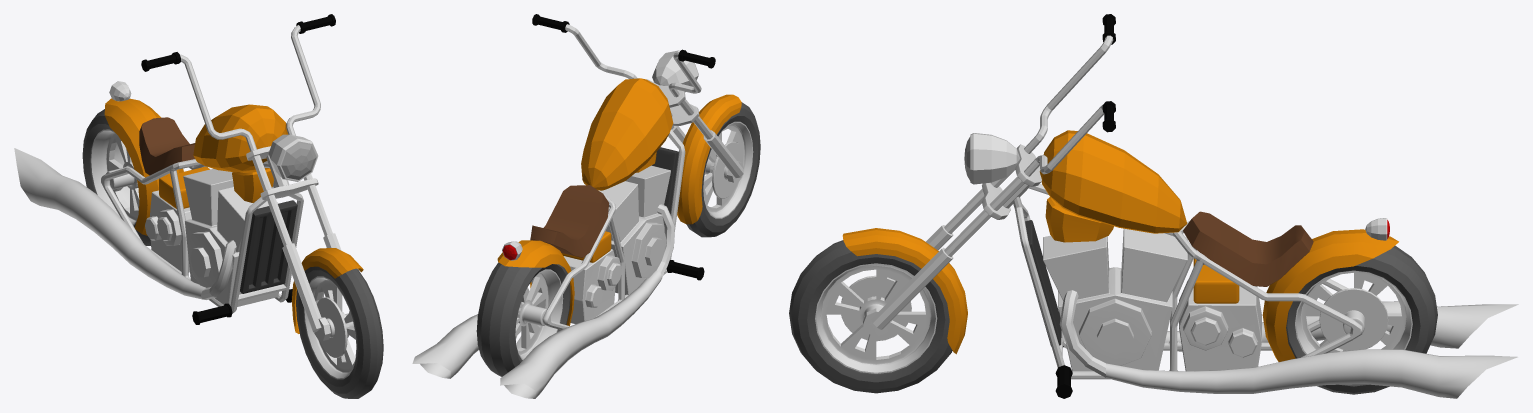
Rendered from VehicleMotorcycleChopper1.1.fbx.
3 views of the same model, side by side, from view 1: azimuth 30°, elevation 25°; view 2: azimuth 150°, elevation 25°; view 3: azimuth 270°, elevation 25° (orthographic). The views are drawn at different scales.
Parts seen in each view (by area): view 1: Chassis, Forks, WheelFrt, WheelRear; view 2: Chassis, Forks, WheelRear, WheelFrt; view 3: Chassis, WheelFrt, Forks, WheelRear.
Part boxes in pixels (box(x1,y1,x2,y2)): Chassis: box(14, 81, 303, 324); Forks: box(141, 14, 363, 340); WheelFrt: box(296, 266, 383, 398); WheelRear: box(82, 109, 150, 245); Chassis: box(412, 78, 704, 398); Forks: box(532, 14, 743, 224); WheelRear: box(476, 262, 570, 376); WheelFrt: box(686, 102, 760, 237); Chassis: box(1013, 130, 1518, 398); WheelFrt: box(789, 240, 952, 393); Forks: box(842, 14, 1115, 354); WheelRear: box(1286, 245, 1437, 394).
Size of the model in its own units: 94.01 by 134 by 273.
